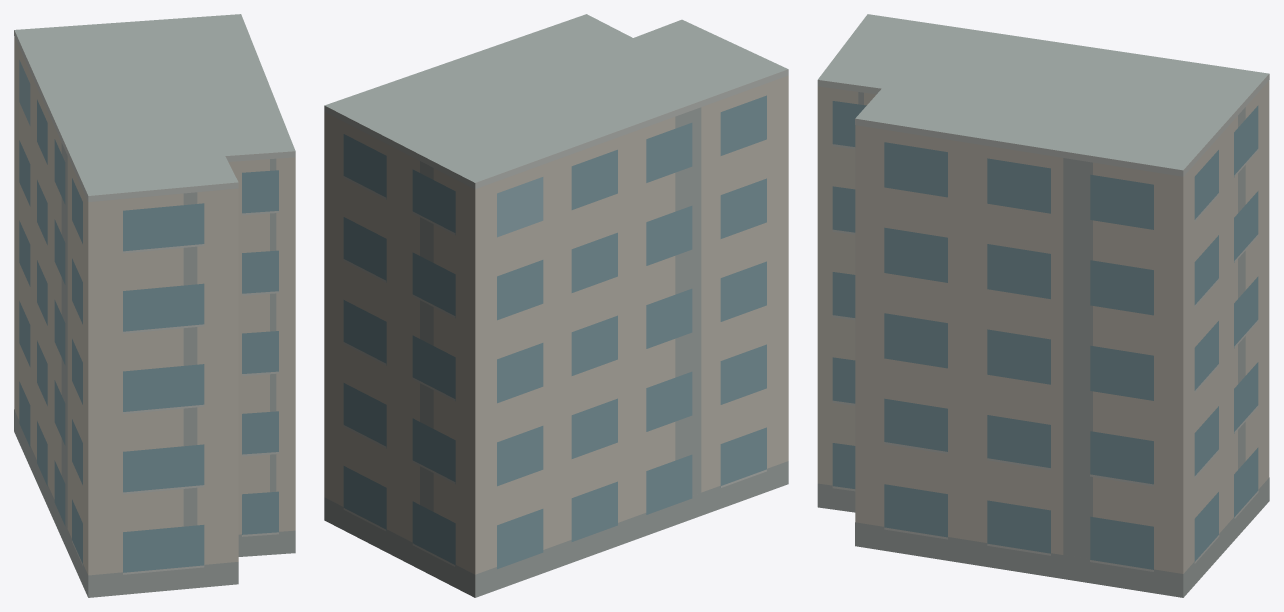
File: survey-upis-32987870.glb
3 renders of one model, left to right at view 1: azimuth 30°, elevation 25°; view 2: azimuth 150°, elevation 25°; view 3: azimuth 270°, elevation 25°, orthographic. The views are drawn at different scales.
Visible parts, largest first — view 1: survey-upis-32987870.tmp; view 2: survey-upis-32987870.tmp; view 3: survey-upis-32987870.tmp.
Part boxes in pixels (bbox=[...]): survey-upis-32987870.tmp: bbox=[14, 14, 295, 597]; survey-upis-32987870.tmp: bbox=[324, 14, 788, 597]; survey-upis-32987870.tmp: bbox=[817, 14, 1269, 597].
Size of the model in its own units: 12.6 by 16.05 by 15.38.
